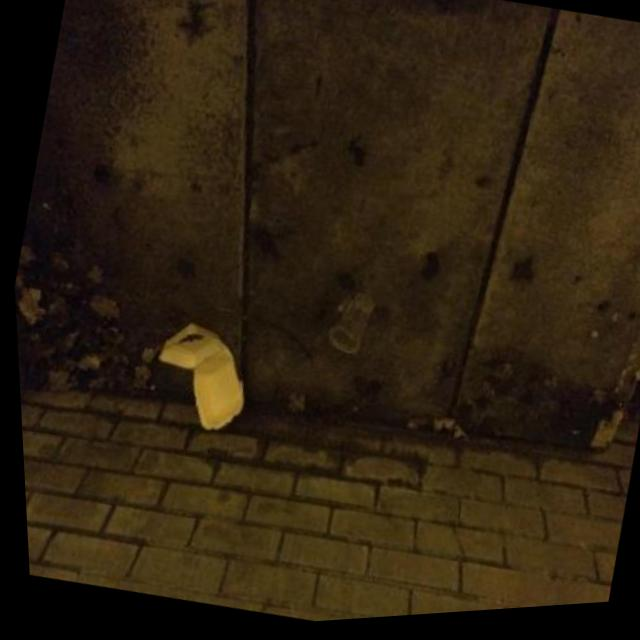foam: (140, 312, 262, 442)
plastic: (323, 285, 380, 358)
